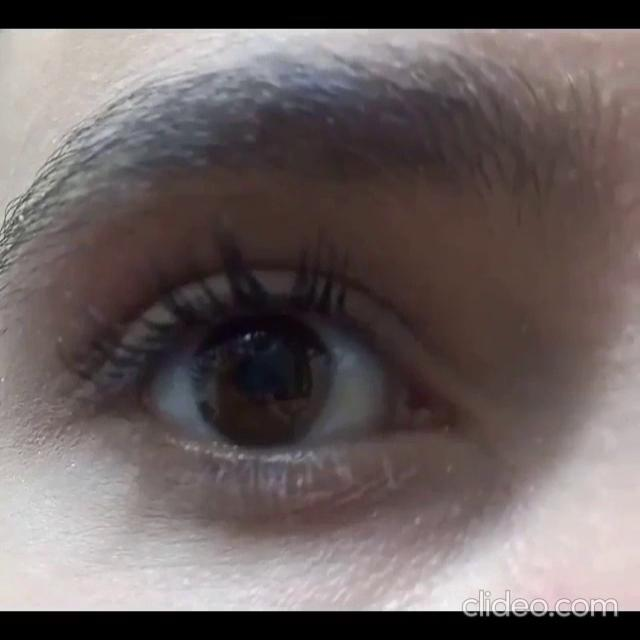iris: (189, 314, 336, 446)
pupille: (236, 350, 291, 396)
